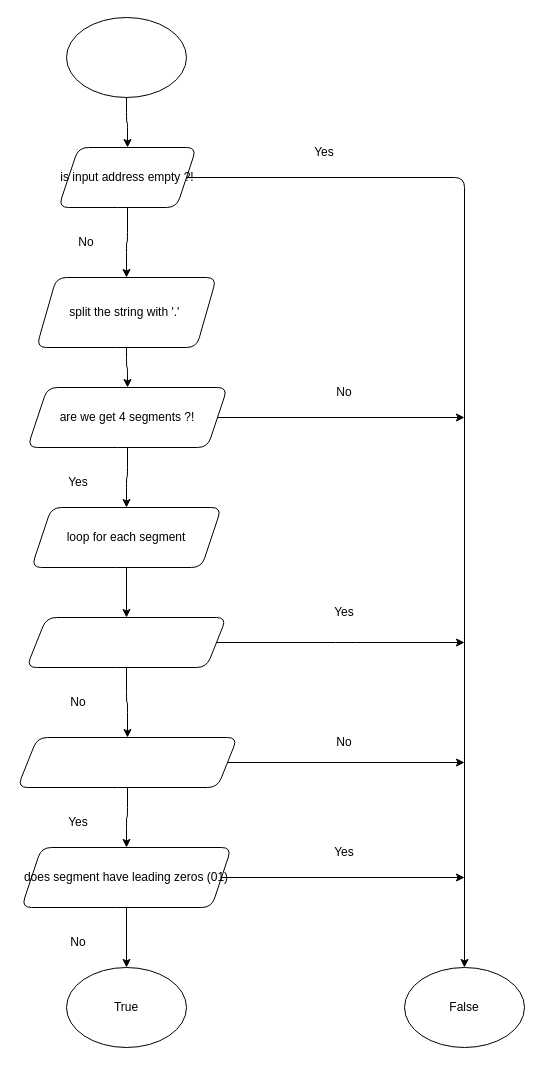
Image size: 542x1065. Some labels were removed from this diagram. Here are the shapes that lost their labels. From the top down, the box of each, then its label:
(66, 16, 186, 98): start Ipv4 checker
(26, 616, 226, 668): does segment have any character or letters ?!
(16, 736, 238, 788): is segment value is between numbers 0 .. 255
